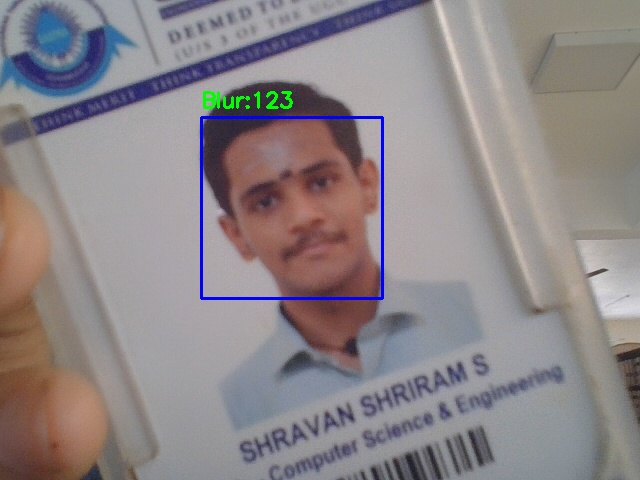fake: (201, 117, 382, 298)
